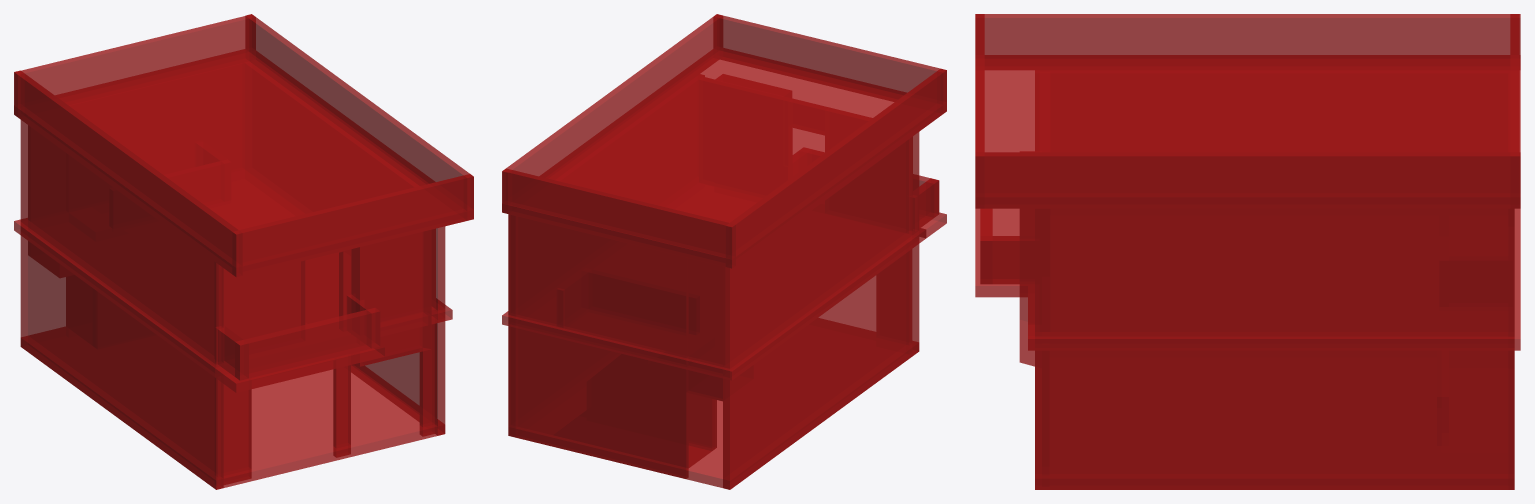
Rendered from SM_Bld_Shop_09_Collision.fbx.
3 renders of one model, left to right at view 1: azimuth 30°, elevation 25°; view 2: azimuth 150°, elevation 25°; view 3: azimuth 270°, elevation 25°, orthographic. The views are drawn at different scales.
Parts seen in each view (by area): view 1: SM_Bld_Shop_09_Collision; view 2: SM_Bld_Shop_09_Collision; view 3: SM_Bld_Shop_09_Collision.
Part boxes in pixels (box(x1,y1,x2,y2)): SM_Bld_Shop_09_Collision: box(14, 14, 473, 489); SM_Bld_Shop_09_Collision: box(502, 14, 946, 489); SM_Bld_Shop_09_Collision: box(975, 14, 1520, 489).
Size of the model in its own units: 702 by 773 by 1136.
